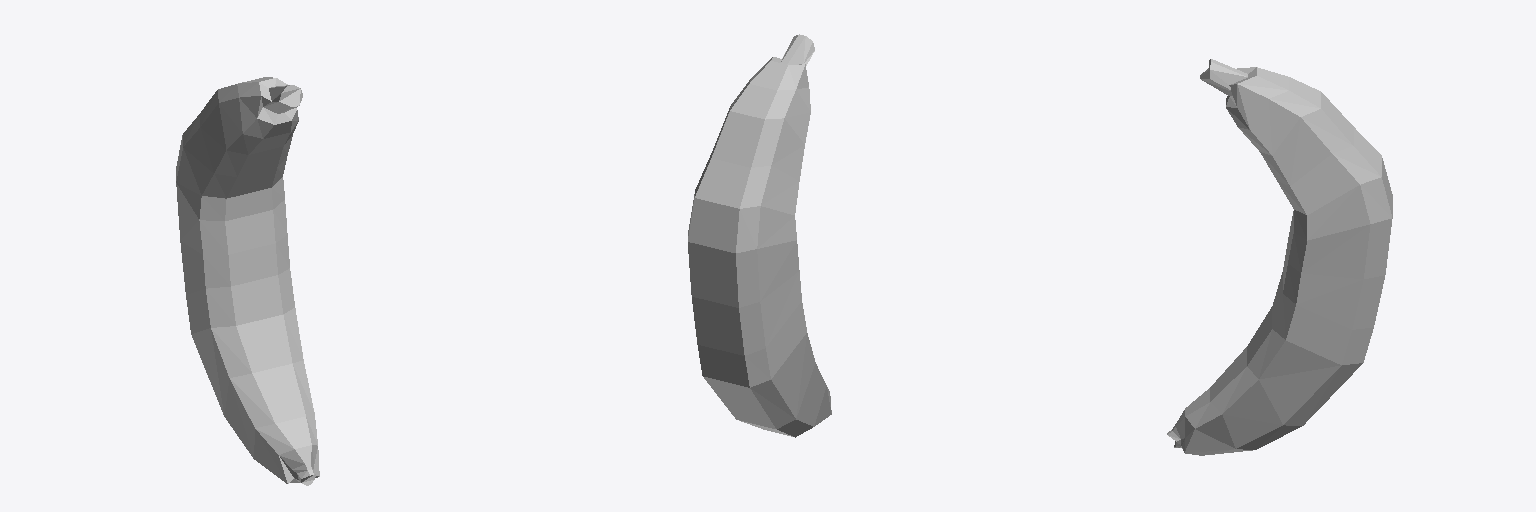
Rendered from Banana.obj.
3 renders of one model, left to right at view 1: azimuth 30°, elevation 25°; view 2: azimuth 150°, elevation 25°; view 3: azimuth 270°, elevation 25°, orthographic.
Visible parts, largest first — view 1: Cube; view 2: Cube; view 3: Cube.
Part boxes in pixels (x1,y1,x2,y2): Cube: (176, 77, 319, 485); Cube: (688, 34, 831, 437); Cube: (1167, 59, 1392, 455).
Size of the model in its own units: 0.9626 by 4.2 by 2.19.